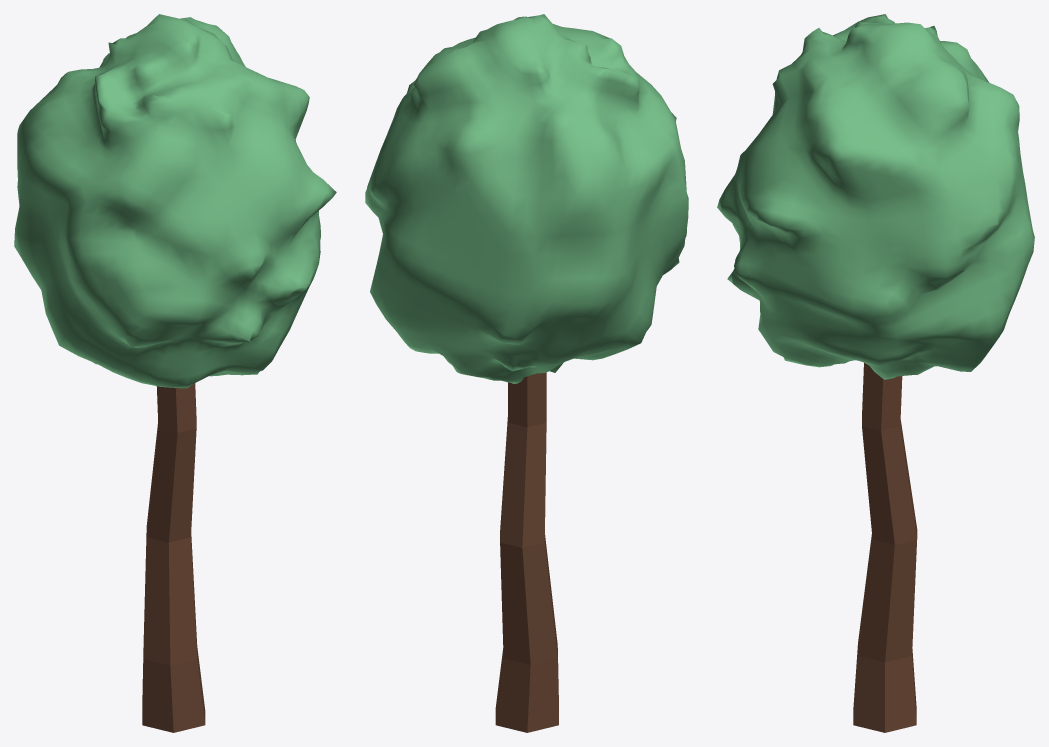
File: Tree.fbx
3 renders of one model, left to right at view 1: azimuth 30°, elevation 25°; view 2: azimuth 150°, elevation 25°; view 3: azimuth 270°, elevation 25°, orthographic.
Parts seen in each view (by area): view 1: pCylinder3; view 2: pCylinder3; view 3: pCylinder3.
Boxes of the visible parts, bbox=[...] form: pCylinder3: bbox=[14, 14, 336, 732]; pCylinder3: bbox=[365, 14, 688, 732]; pCylinder3: bbox=[717, 14, 1034, 732].
Size of the model in its own units: 531 by 1316 by 546.
